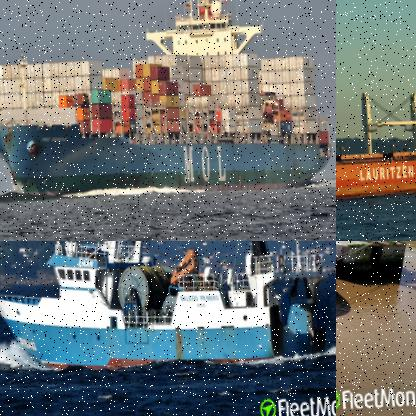Fishing Boat: (0, 241, 334, 374)
Merchant Ship: (0, 0, 335, 204), (336, 58, 415, 212)
